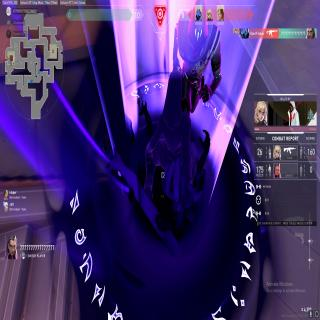ENEMY-BODY: (172, 0, 221, 130)
ENEMY-HEAD: (187, 0, 208, 52)
